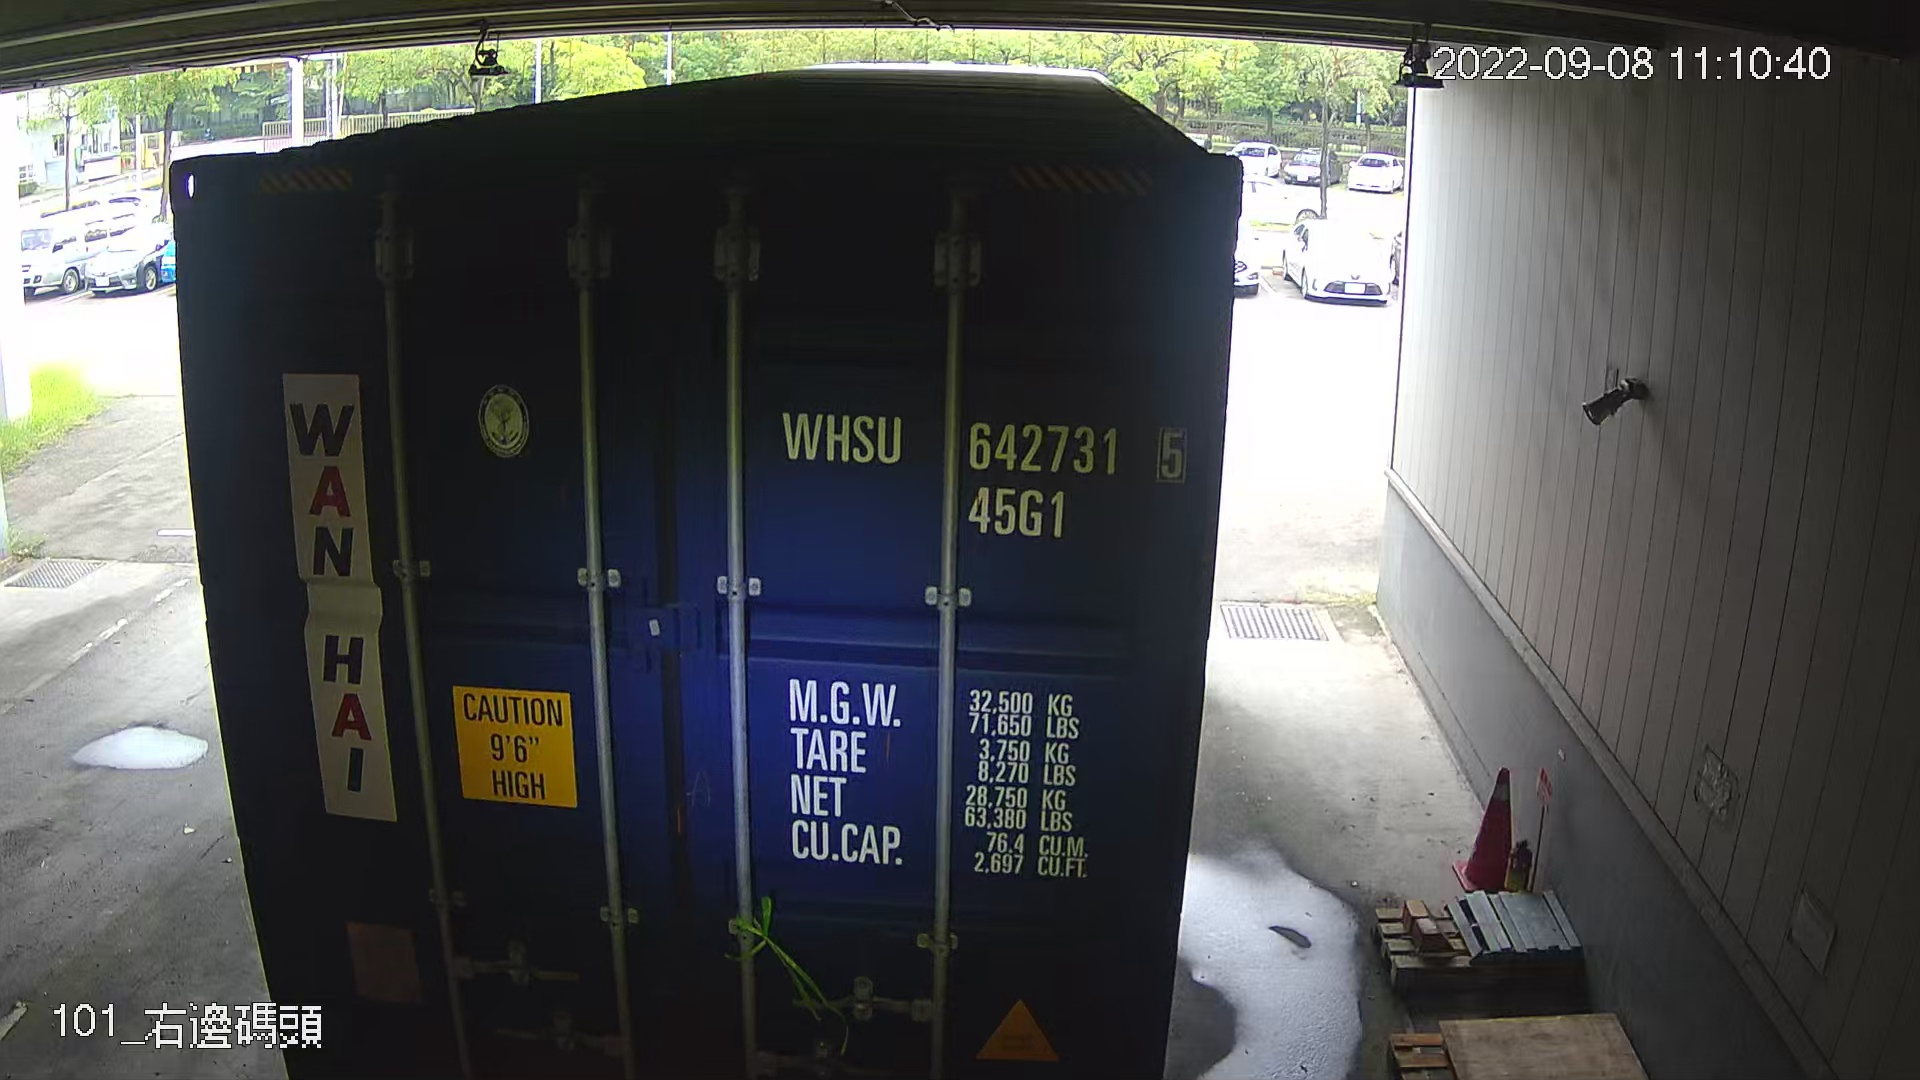container: (773, 397, 1203, 553)
